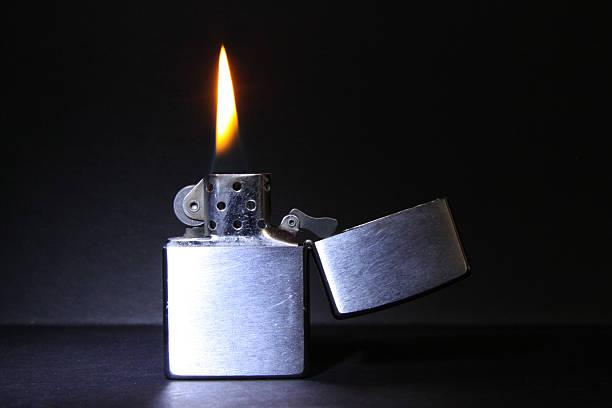Fire: (210, 40, 251, 171)
